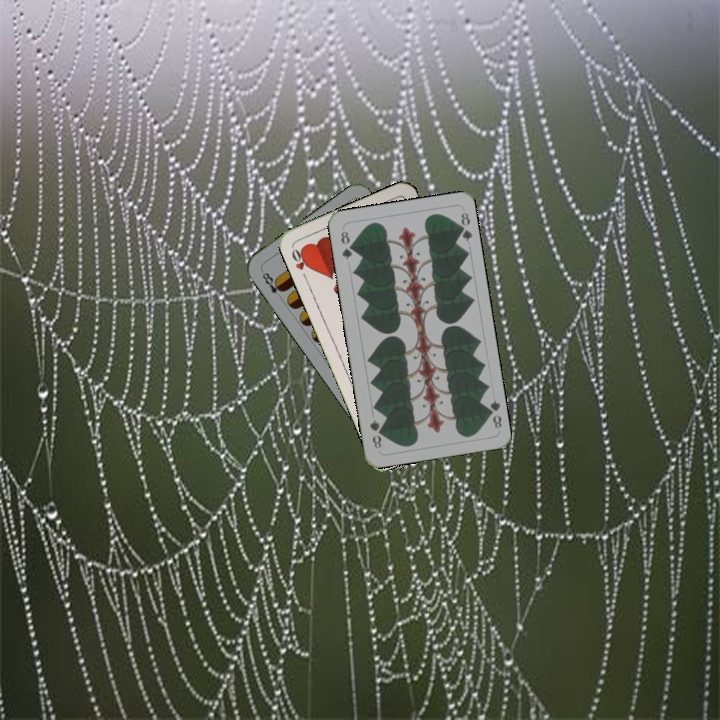E8: (257, 266, 287, 296)
G8: (482, 396, 504, 431), (337, 227, 355, 262)
HO: (287, 244, 313, 282)
